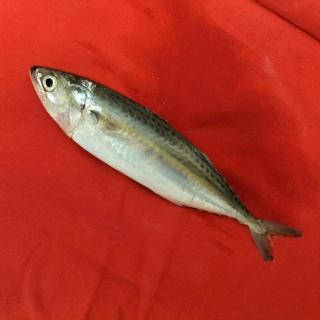Ikan: (23, 47, 308, 269)
